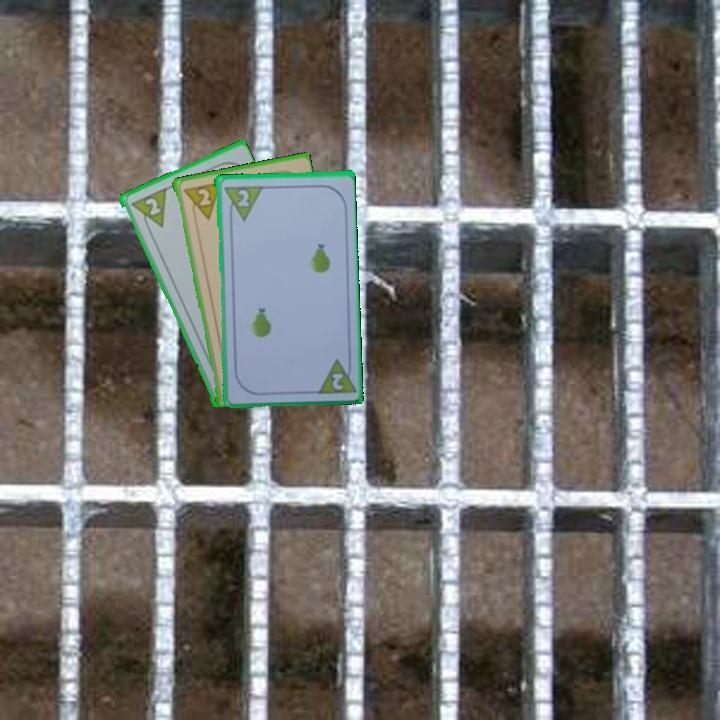2p: (179, 178, 223, 224), (141, 194, 163, 218), (328, 369, 346, 393), (234, 186, 252, 209)
